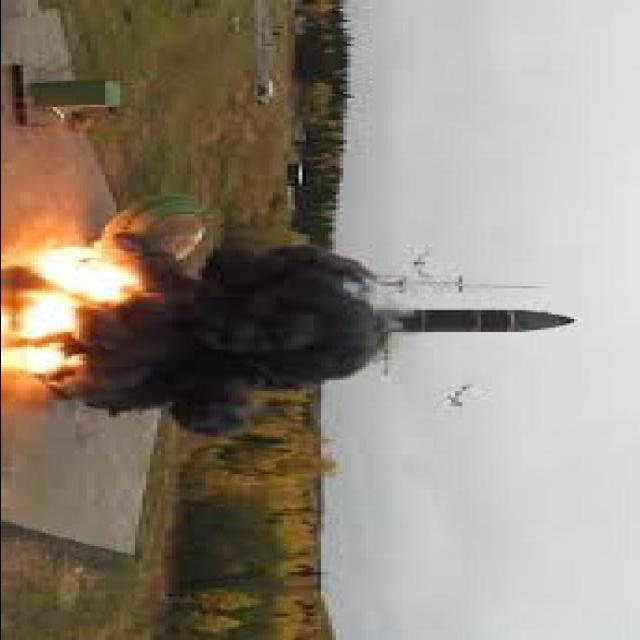missile: (267, 292, 585, 352)
